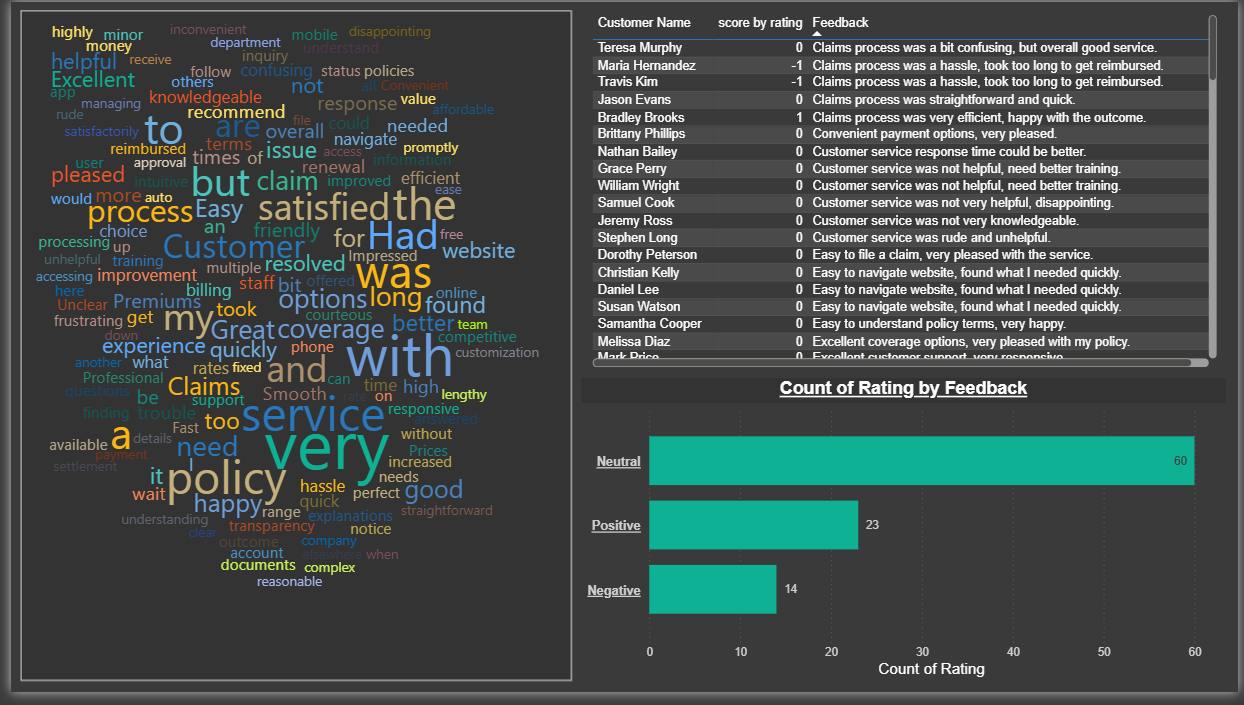

The page's visual inventory and layout, read from the dashboard file:
{"tool":"powerbi","page":{"name":"Page 3","canvas":[1280,720],"ordinal":2},"visuals":[{"type":"WordCloud1447959067750","fields":{"Values":["CountNonNull(Sheet1.Feedback)"],"Category":["Sheet1.Feedback"]},"box":[10.2,9.1,574.8,699.8],"z":0},{"type":"barChart","title":"Count of Rating by Feedback","fields":{"Category":["Sheet1.rating "],"Y":["CountNonNull(Sheet1.NUMrating)"]},"box":[595.3,391.9,672.5,316.9],"z":1000},{"type":"tableEx","fields":{"Values":["Sheet1.Customer Name","Sheet1.score by rating","Sheet1.Feedback"]},"box":[600.9,9.1,662.3,377.1],"z":2000}]}

Visuals, with their boxes in screenshot pixels (x1, y1, x2, y2), scaled from the page's 1280x720 canvas onto the 1244x705 screenshot:
WordCloud1447959067750 - CountNonNull(Sheet1.Feedback) x Sheet1.Feedback: <region>10, 9, 569, 694</region>
"Count of Rating by Feedback" barChart: <region>579, 384, 1232, 694</region>
tableEx - Sheet1.Customer Name x Sheet1.score by rating: <region>584, 9, 1228, 378</region>
